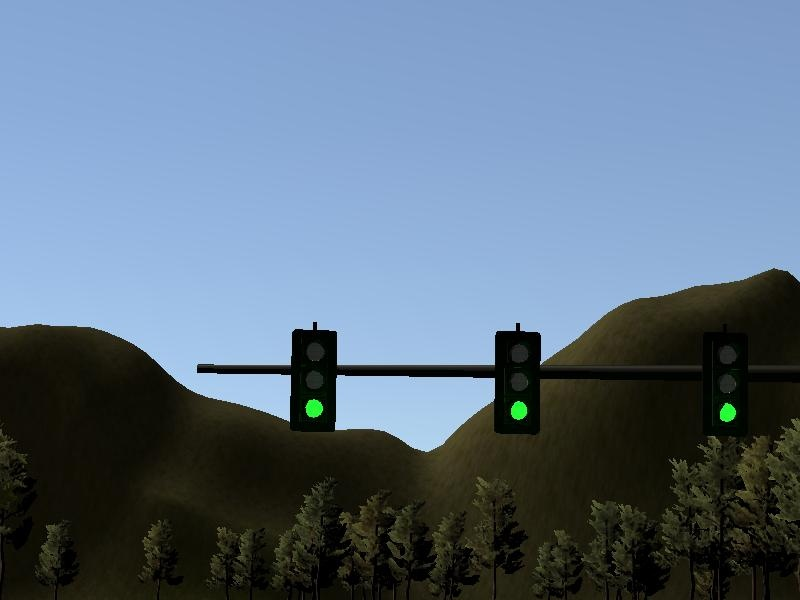green: (486, 317, 546, 439), (284, 317, 344, 434), (701, 328, 749, 437)
